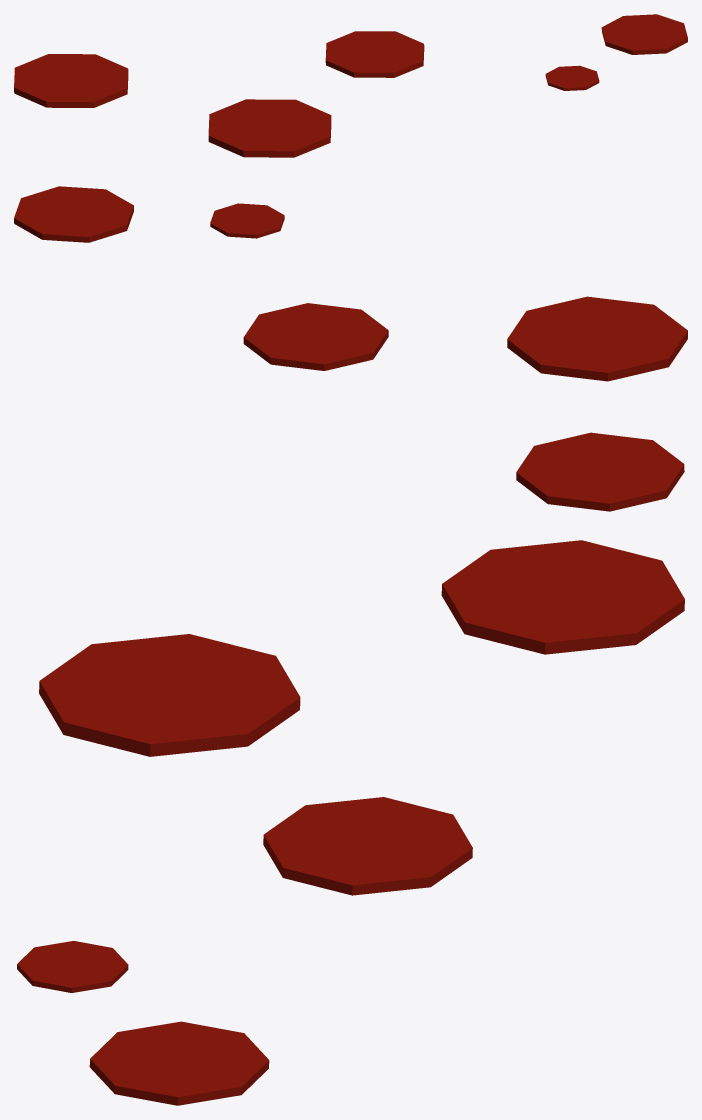
The model's file is bloodTrail2.fbx.
3 views of the same model, one above another, from view 1: azimuth 30°, elevation 25°; view 2: azimuth 150°, elevation 25°; view 3: azimuth 270°, elevation 25° (orthographic). The views are drawn at different scales.
Parts seen in each view (by area): view 1: bloodTrail; view 2: bloodTrail; view 3: bloodTrail.
Part boxes in pixels (left/top/right/bottom): bloodTrail: left=14, top=14, right=687, bottom=157; bloodTrail: left=14, top=186, right=687, bottom=511; bloodTrail: left=17, top=540, right=684, bottom=1105.
Size of the model in its own units: 366 by 3.88 by 186.
